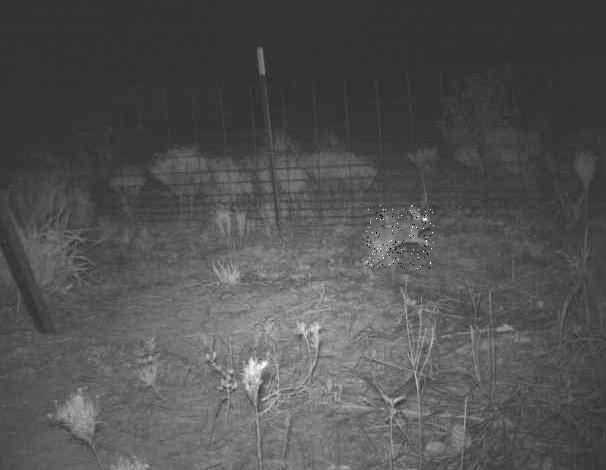Rabbit: (365, 205, 433, 270)
